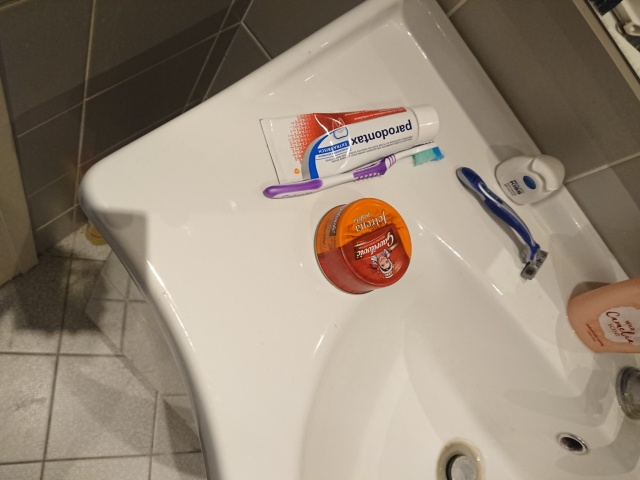Gavrilovic Pork Liver Pate 100g: (311, 195, 413, 296)
